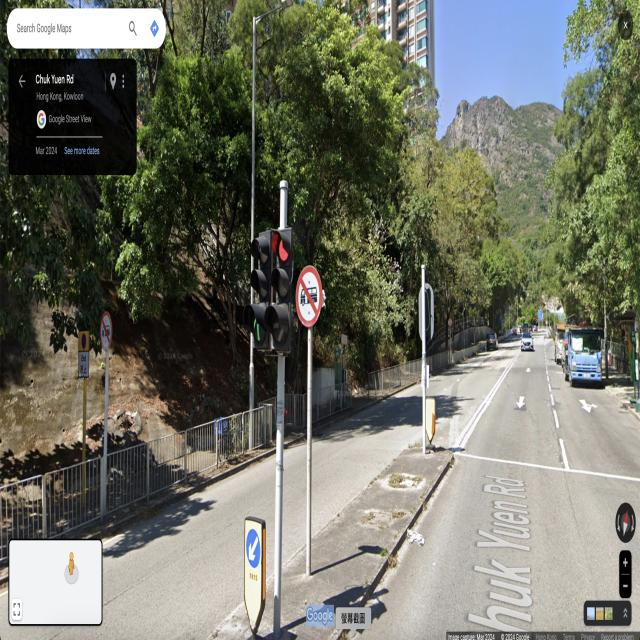Order-Sign: (296, 266, 322, 328), (245, 526, 261, 568), (78, 330, 90, 377), (100, 312, 112, 350)
